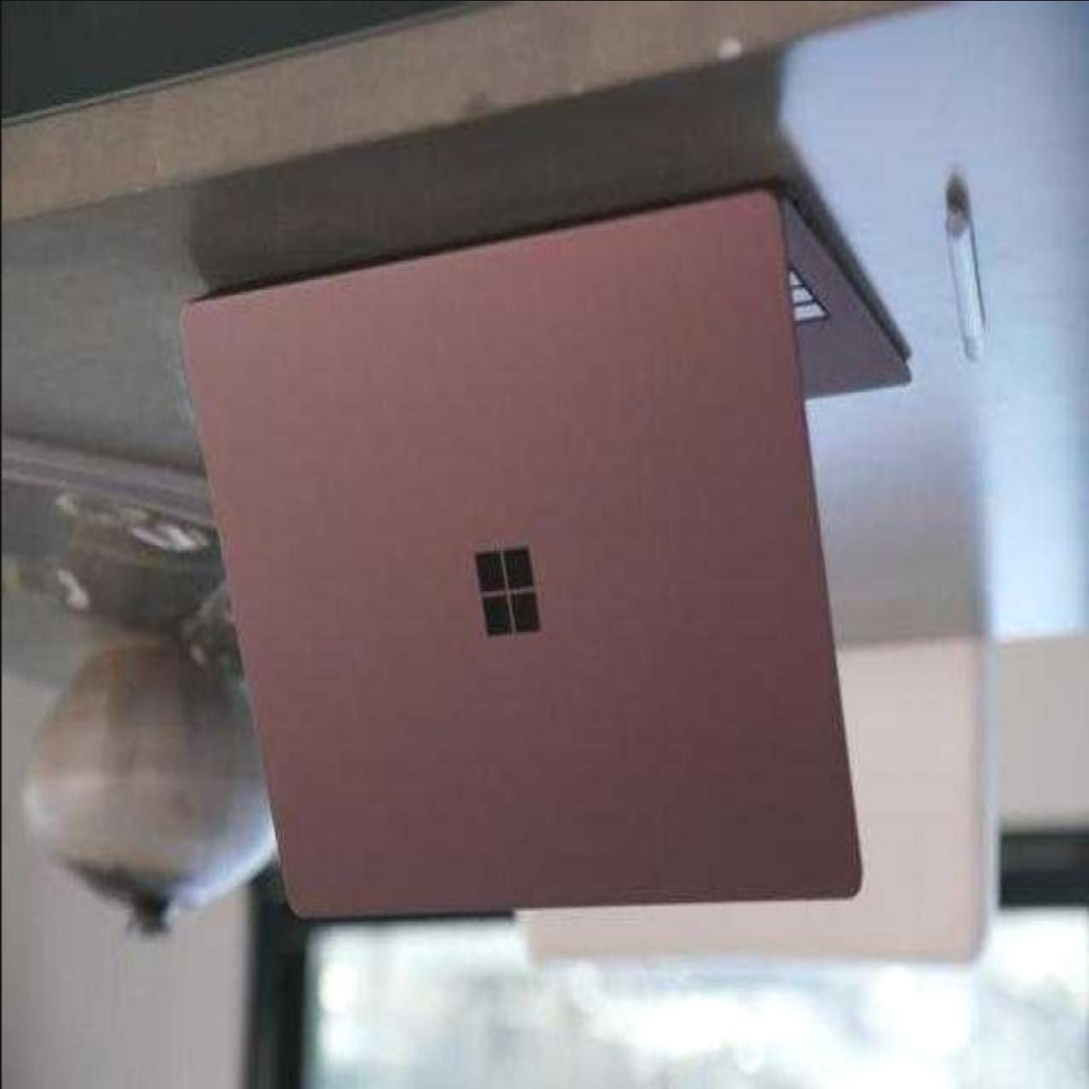laptop: (154, 135, 921, 971)
